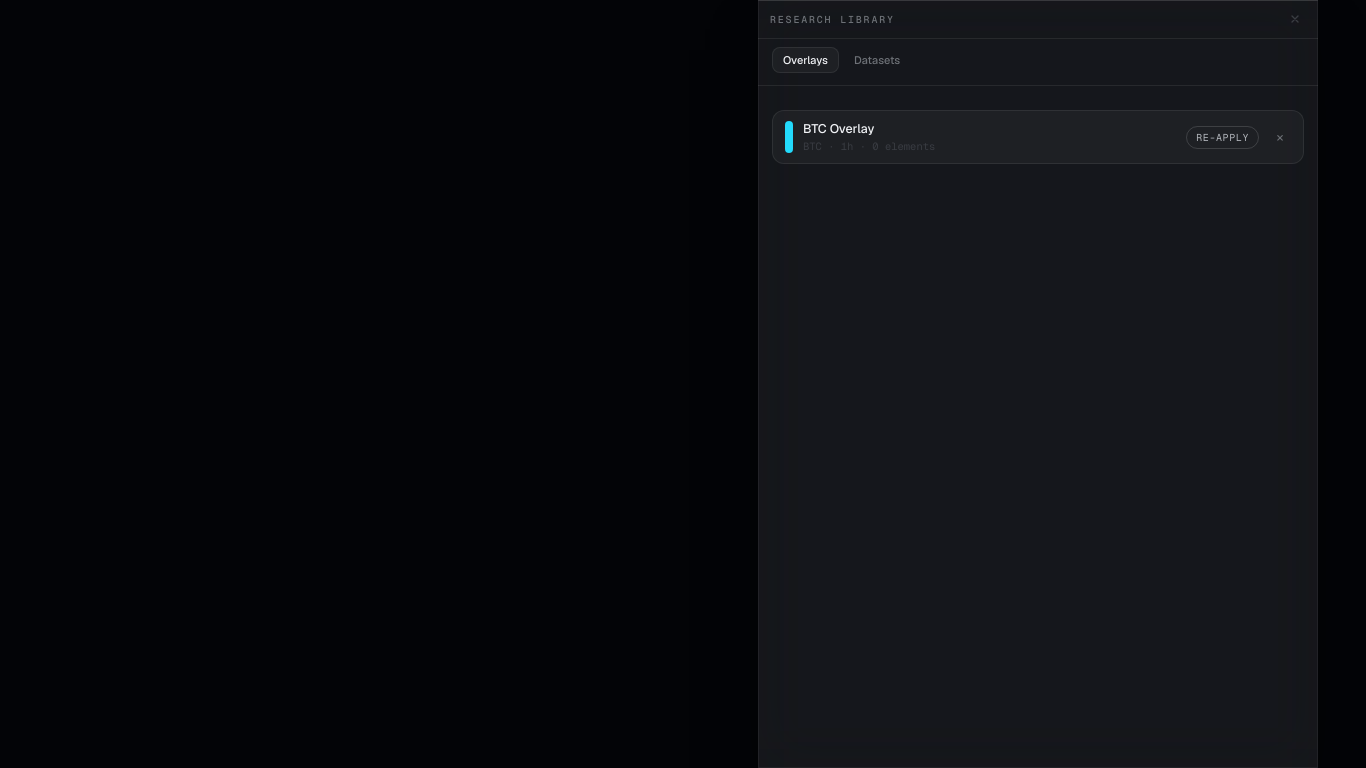
Test: ResearchLibrary › c. Applied flash › c1. clicking Re-apply puts the overlay on-chart (shows "on chart" label)
// Re-apply button is visible before the click.
Click the button "Re-apply".
click(1223, 137)  # box [1186,126,1259,149]
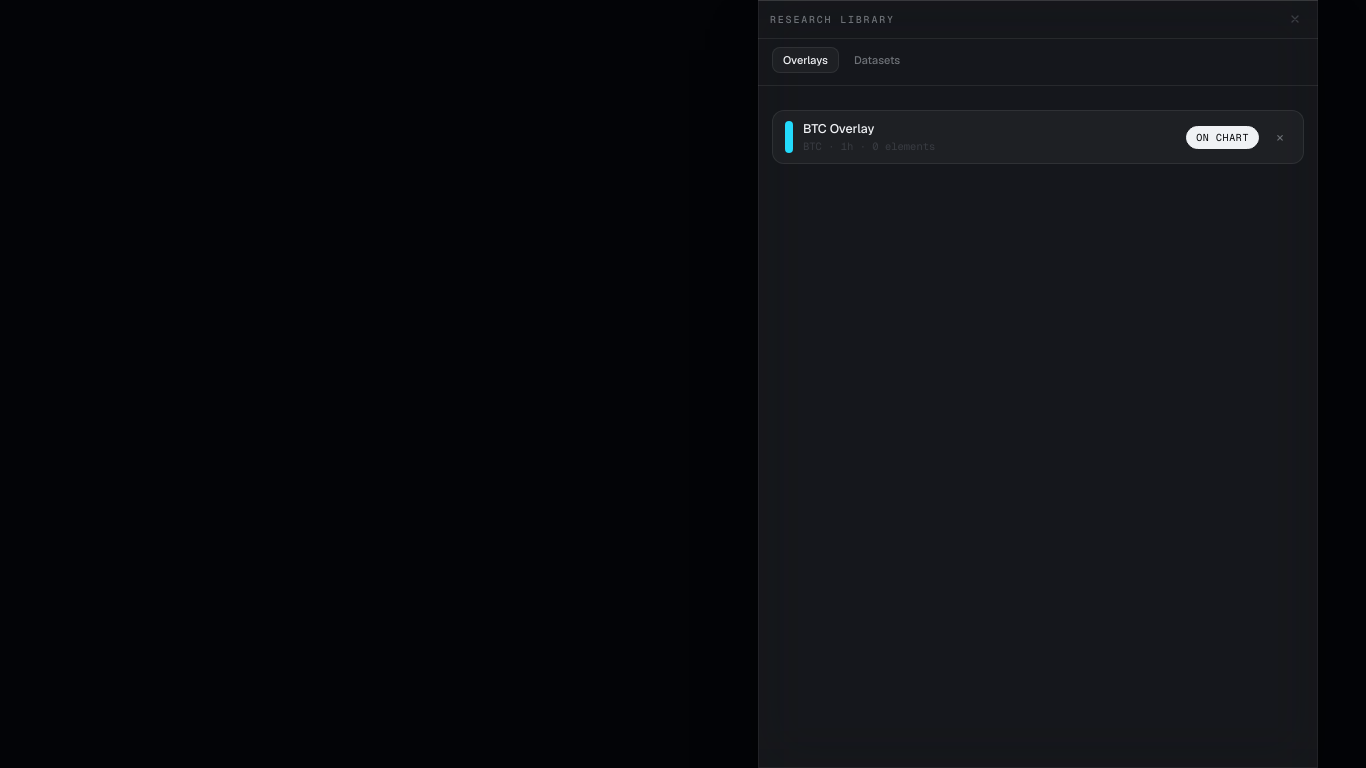
Expected: the text "on chart" is shown, [1186,126,1259,149]
Expected: the button "Re-apply" is gone
